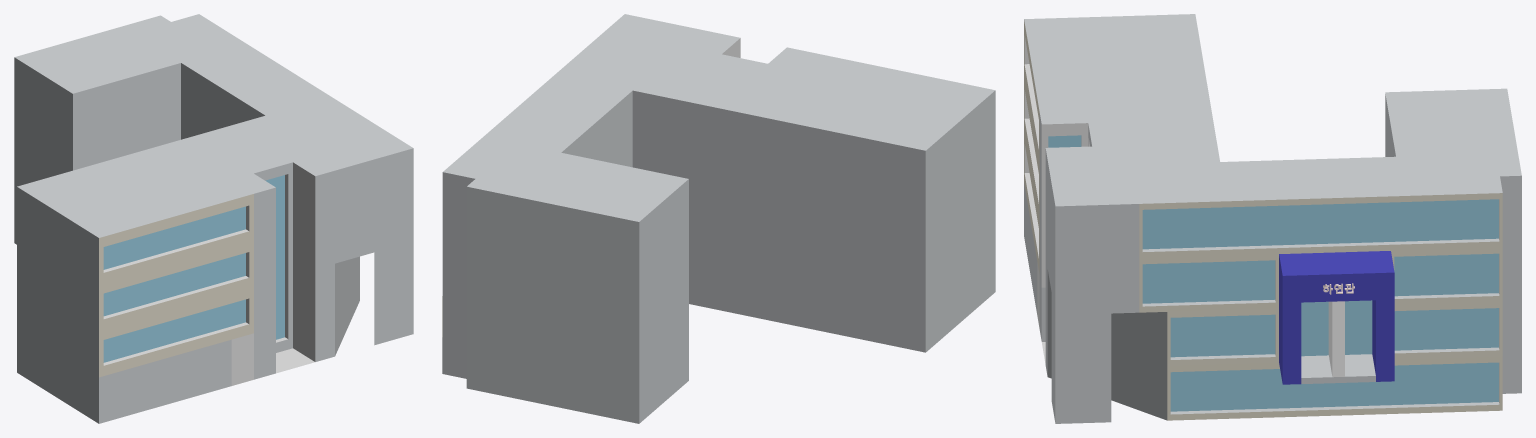
3 views of the same model, side by side, from view 1: azimuth 30°, elevation 25°; view 2: azimuth 150°, elevation 25°; view 3: azimuth 270°, elevation 25° (orthographic). The views are drawn at different scales.
Visible parts, largest first — view 1: A동; view 2: A동; view 3: A동.
Part boxes in pixels (<box>): A동: <box>14,14,413,423</box>; A동: <box>442,14,995,423</box>; A동: <box>1024,14,1521,423</box>.
Size of the model in its own units: 7373 by 3600 by 7465.
